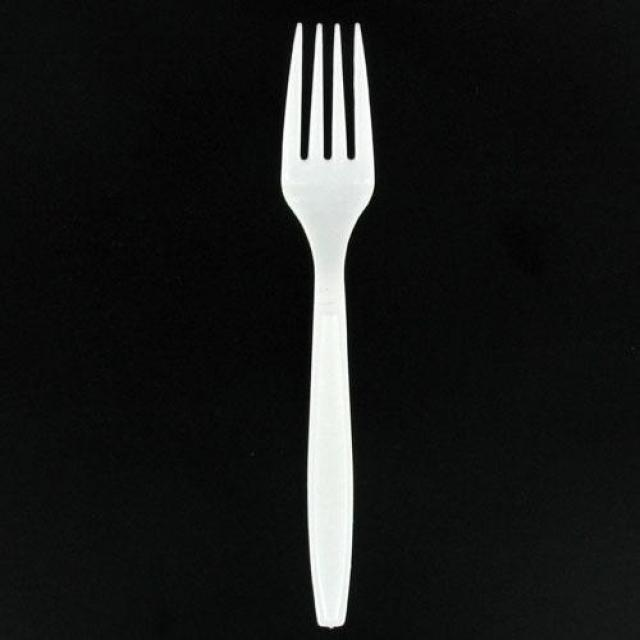spoon: (281, 24, 374, 627)
